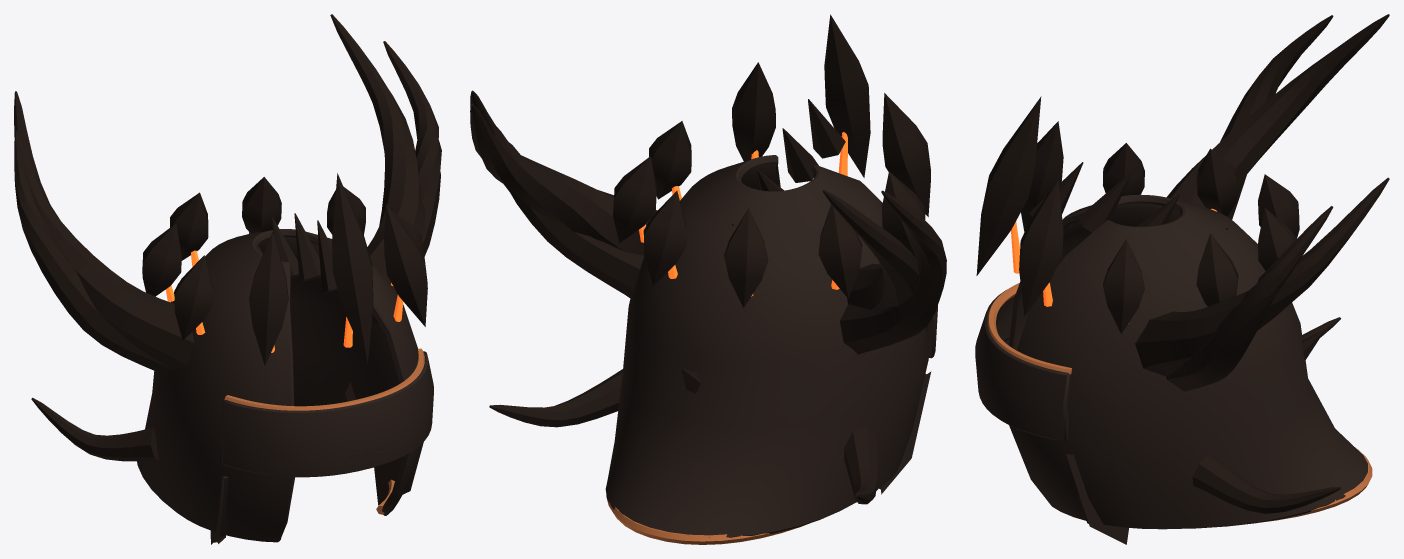
Rendered from asc_cinderbolt_ballista_helm.glb.
The picture shows the model from 3 angles, left to right: view 1: azimuth 30°, elevation 25°; view 2: azimuth 150°, elevation 25°; view 3: azimuth 270°, elevation 25°; orthographic projection. The views are drawn at different scales.
Visible parts, largest first — view 1: asc_cinderbolt_ballista_helm; view 2: asc_cinderbolt_ballista_helm; view 3: asc_cinderbolt_ballista_helm.
Boxes of the visible parts, box(x1,y1,x2,y2) form: asc_cinderbolt_ballista_helm: box(14, 14, 441, 544); asc_cinderbolt_ballista_helm: box(470, 14, 946, 544); asc_cinderbolt_ballista_helm: box(975, 14, 1389, 544).
Bounding box in the file's own units: 0.6292 × 0.5544 × 0.515.
